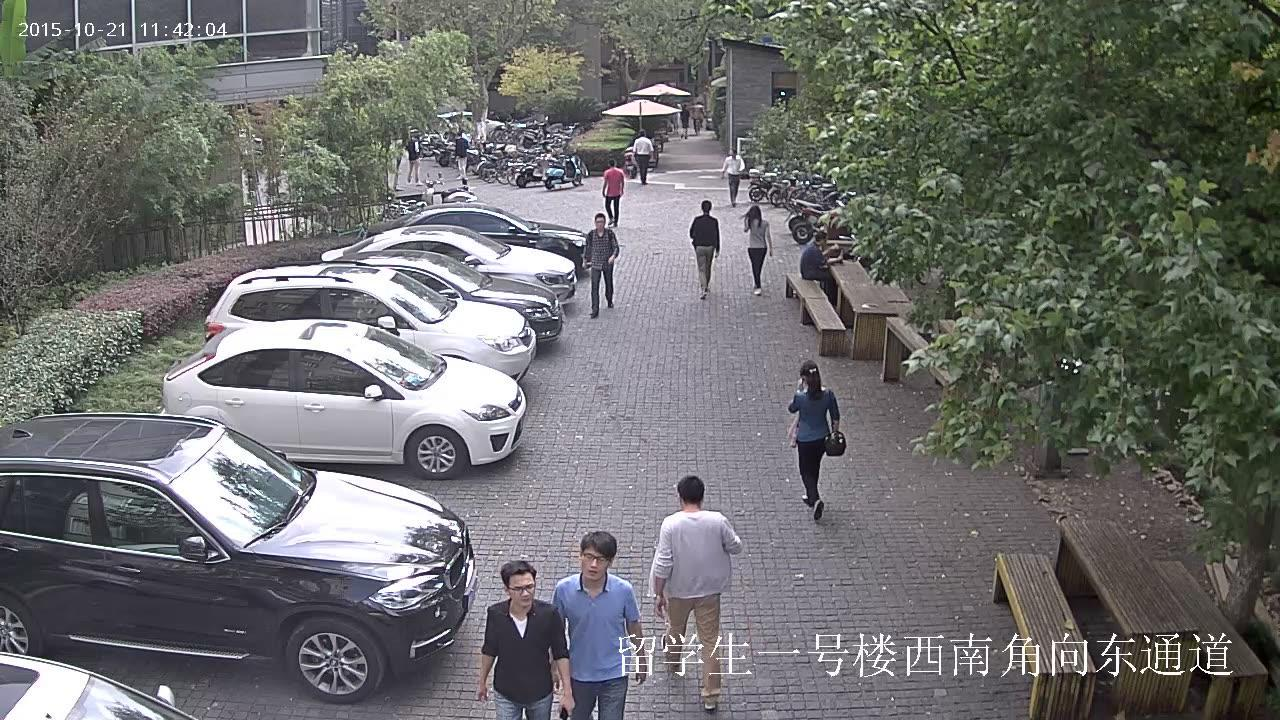person: (648, 474, 744, 711), (553, 530, 648, 719), (475, 559, 574, 720), (787, 360, 846, 521), (583, 212, 620, 318), (688, 199, 720, 300), (740, 205, 772, 297), (799, 230, 837, 284), (601, 158, 625, 228), (720, 149, 745, 207), (632, 130, 654, 185), (404, 135, 419, 184), (454, 131, 469, 180), (691, 100, 706, 136), (691, 99, 705, 131), (678, 104, 689, 139)
